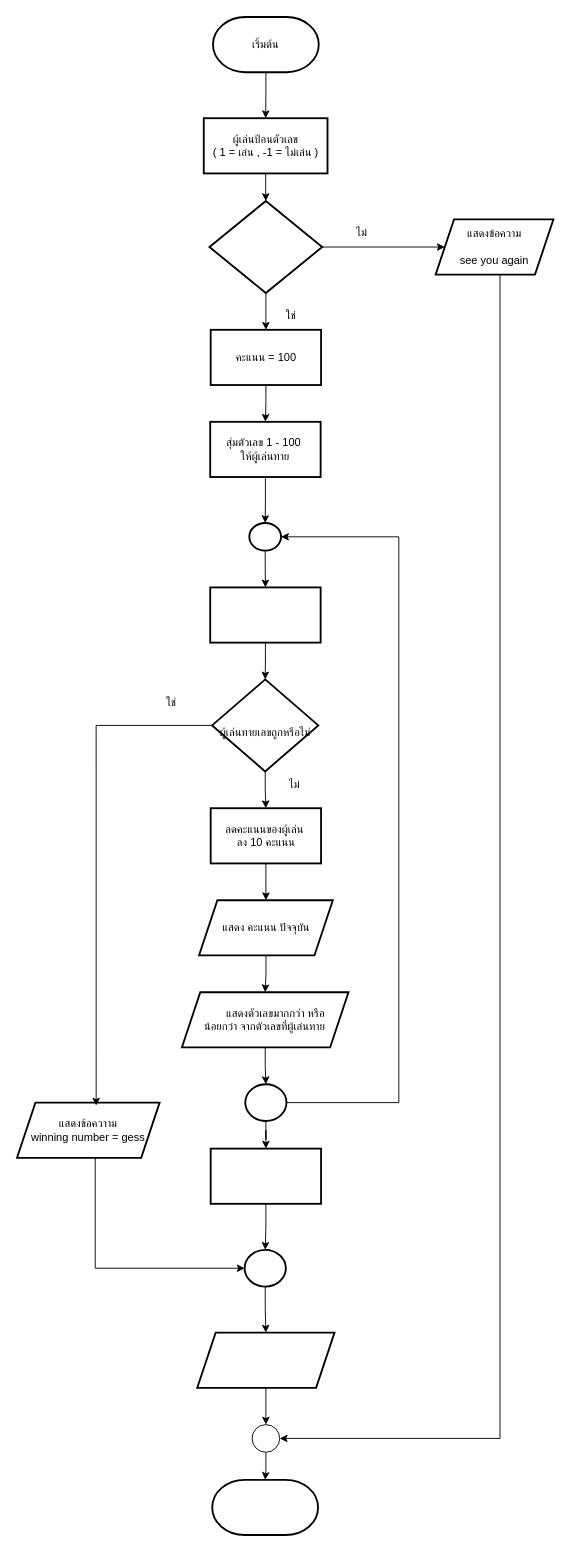
Image size: 569x1551. Some labels were removed from this diagram. The shapes that lost their labels are listed below. From the top down, each one's centre as x and y in pixels, then its label:
At point 265,246: "ผู้เล่นป้อมตัวเลข = 1 หรือไม่".
At point 265,614: "ผู้เล่นทายเล่น ที่ถูกต้อง ระหว่าง 1 - 100".
At point 265,1175: "เมื่อผู้เล่น คะแนนเหลือ 0 ให้จบเกม".
At point 265,1359: "แสดง ตัวเลขที่ถูกและ score".
At point 265,1506: "สิ้นสุด".
